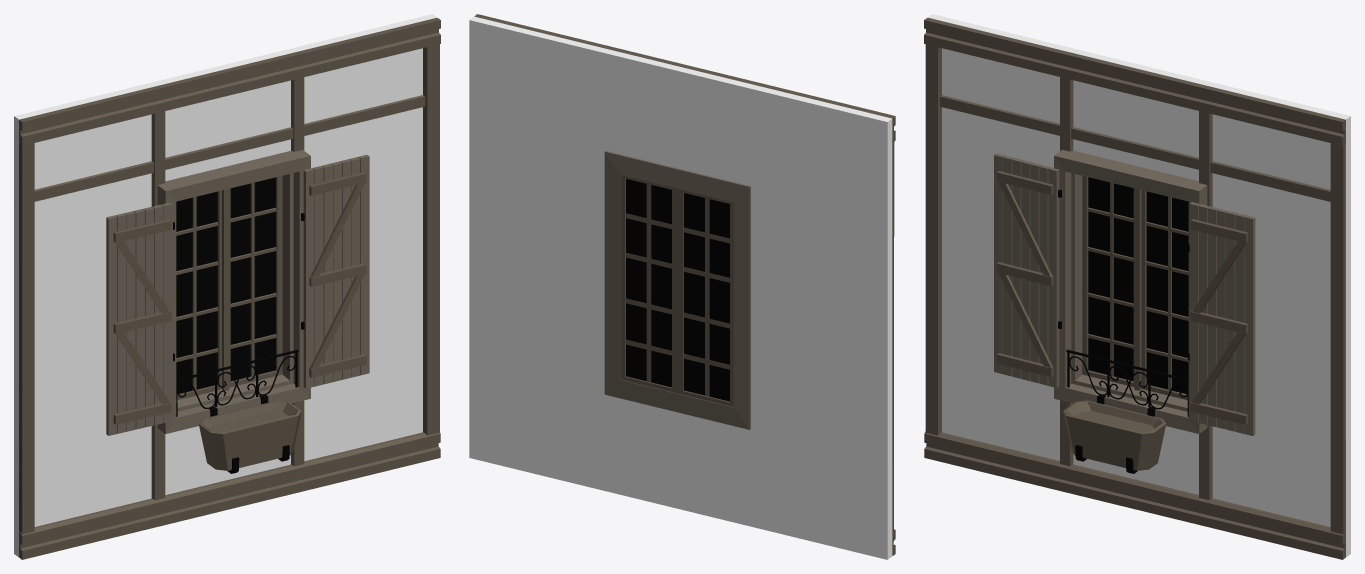
File: WINDOW_05_1.fbx
3 renders of one model, left to right at view 1: azimuth 30°, elevation 25°; view 2: azimuth 150°, elevation 25°; view 3: azimuth 330°, elevation 25°, orthographic.
Visible parts, largest first — view 1: WINDOW_05_1; view 2: WINDOW_05_1; view 3: WINDOW_05_1.
Boxes of the visible parts, x1,y1,x2,y2 form: WINDOW_05_1: [14, 14, 440, 559]; WINDOW_05_1: [469, 14, 895, 559]; WINDOW_05_1: [924, 14, 1350, 559].
Bounding box in the file's own units: 300 × 300 × 49.06.
